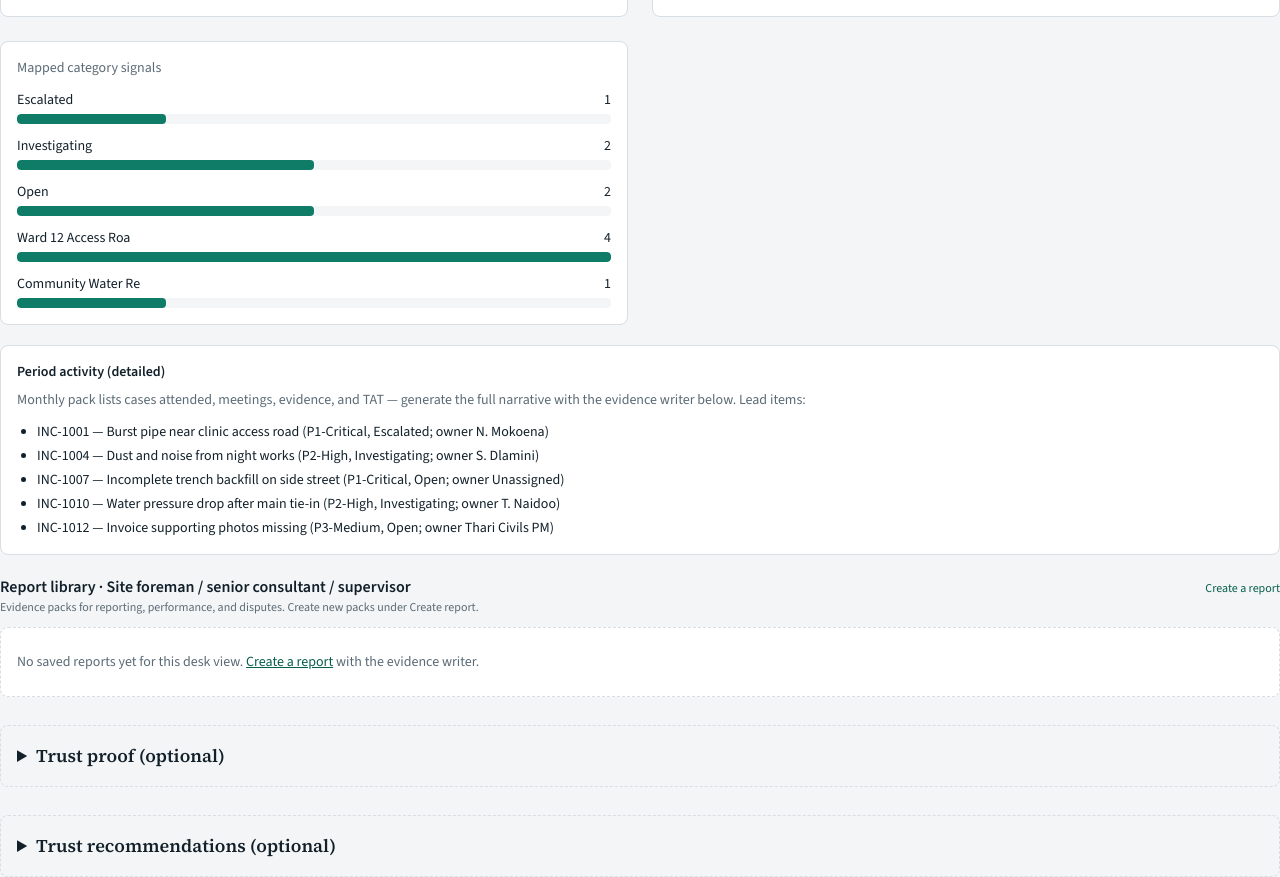
Test case: ReportsHub TE-3 optional trust proof › opens the existing writer flow from the create report control
(page scrolled)
Click the button "Create a report".
click(1243, 588)  # box [1205, 580, 1279, 596]
(page scrolled)
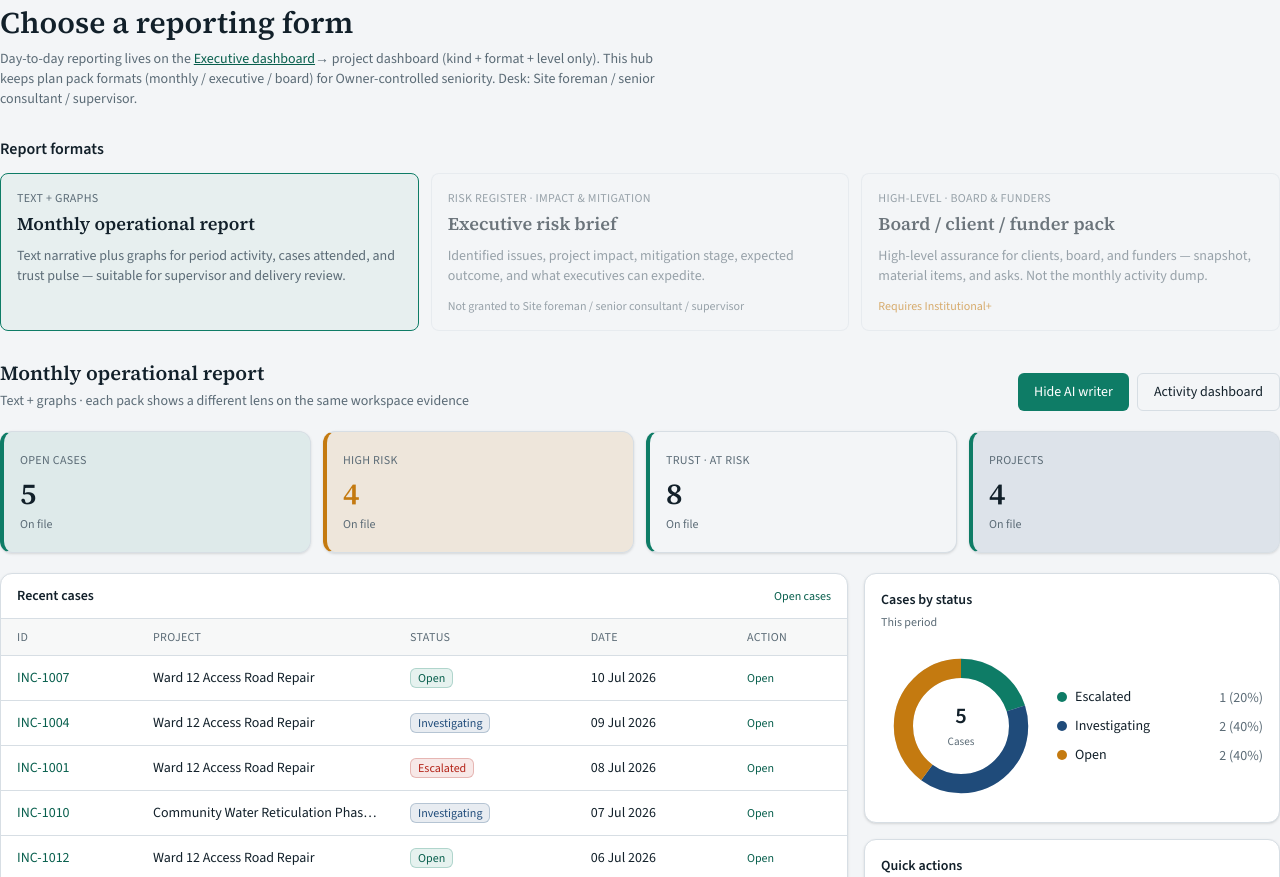
Now the button "Hide AI writer" is shown, box [1018, 373, 1129, 411]
